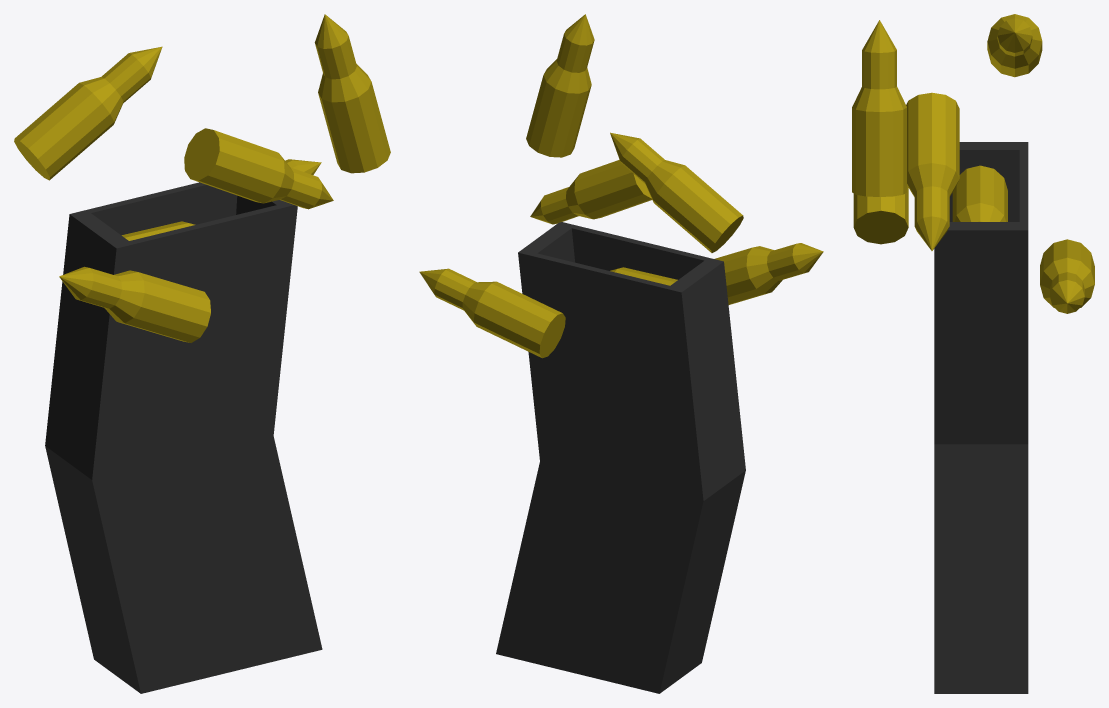
Rendered from Municion3.fbx.
The picture shows the model from 3 angles, left to right: view 1: azimuth 30°, elevation 25°; view 2: azimuth 150°, elevation 25°; view 3: azimuth 270°, elevation 25°; orthographic projection. The views are drawn at different scales.
Parts seen in each view (by area): view 1: Cube, Bullet.011, Bullet.007, Bullet.009, Bullet.008; view 2: Cube, Bullet.011, Bullet.010, Bullet.007, Bullet.008, Bullet.009; view 3: Cube, Bullet.007, Bullet.008, Bullet.010, Bullet, Bullet.011, Bullet.009.
Boxes of the visible parts, box(x1,y1,x2,y2) form: Cube: box(45, 182, 322, 693); Bullet.011: box(14, 46, 162, 180); Bullet.007: box(314, 14, 390, 173); Bullet.009: box(59, 266, 210, 342); Bullet.008: box(184, 128, 333, 209); Cube: box(496, 222, 745, 693); Bullet.011: box(610, 132, 743, 252); Bullet.010: box(419, 268, 565, 358); Bullet.007: box(526, 14, 594, 157); Bullet.008: box(530, 160, 652, 224); Bullet.009: box(715, 243, 823, 304); Cube: box(934, 142, 1028, 693); Bullet.007: box(852, 20, 906, 196); Bullet.008: box(906, 92, 959, 250); Bullet.010: box(1040, 239, 1094, 313); Bullet: box(952, 165, 1007, 221); Bullet.011: box(987, 14, 1042, 77); Bullet.009: box(853, 185, 908, 244).
Size of the model in its own units: 41.25 by 73.3 by 24.37.
